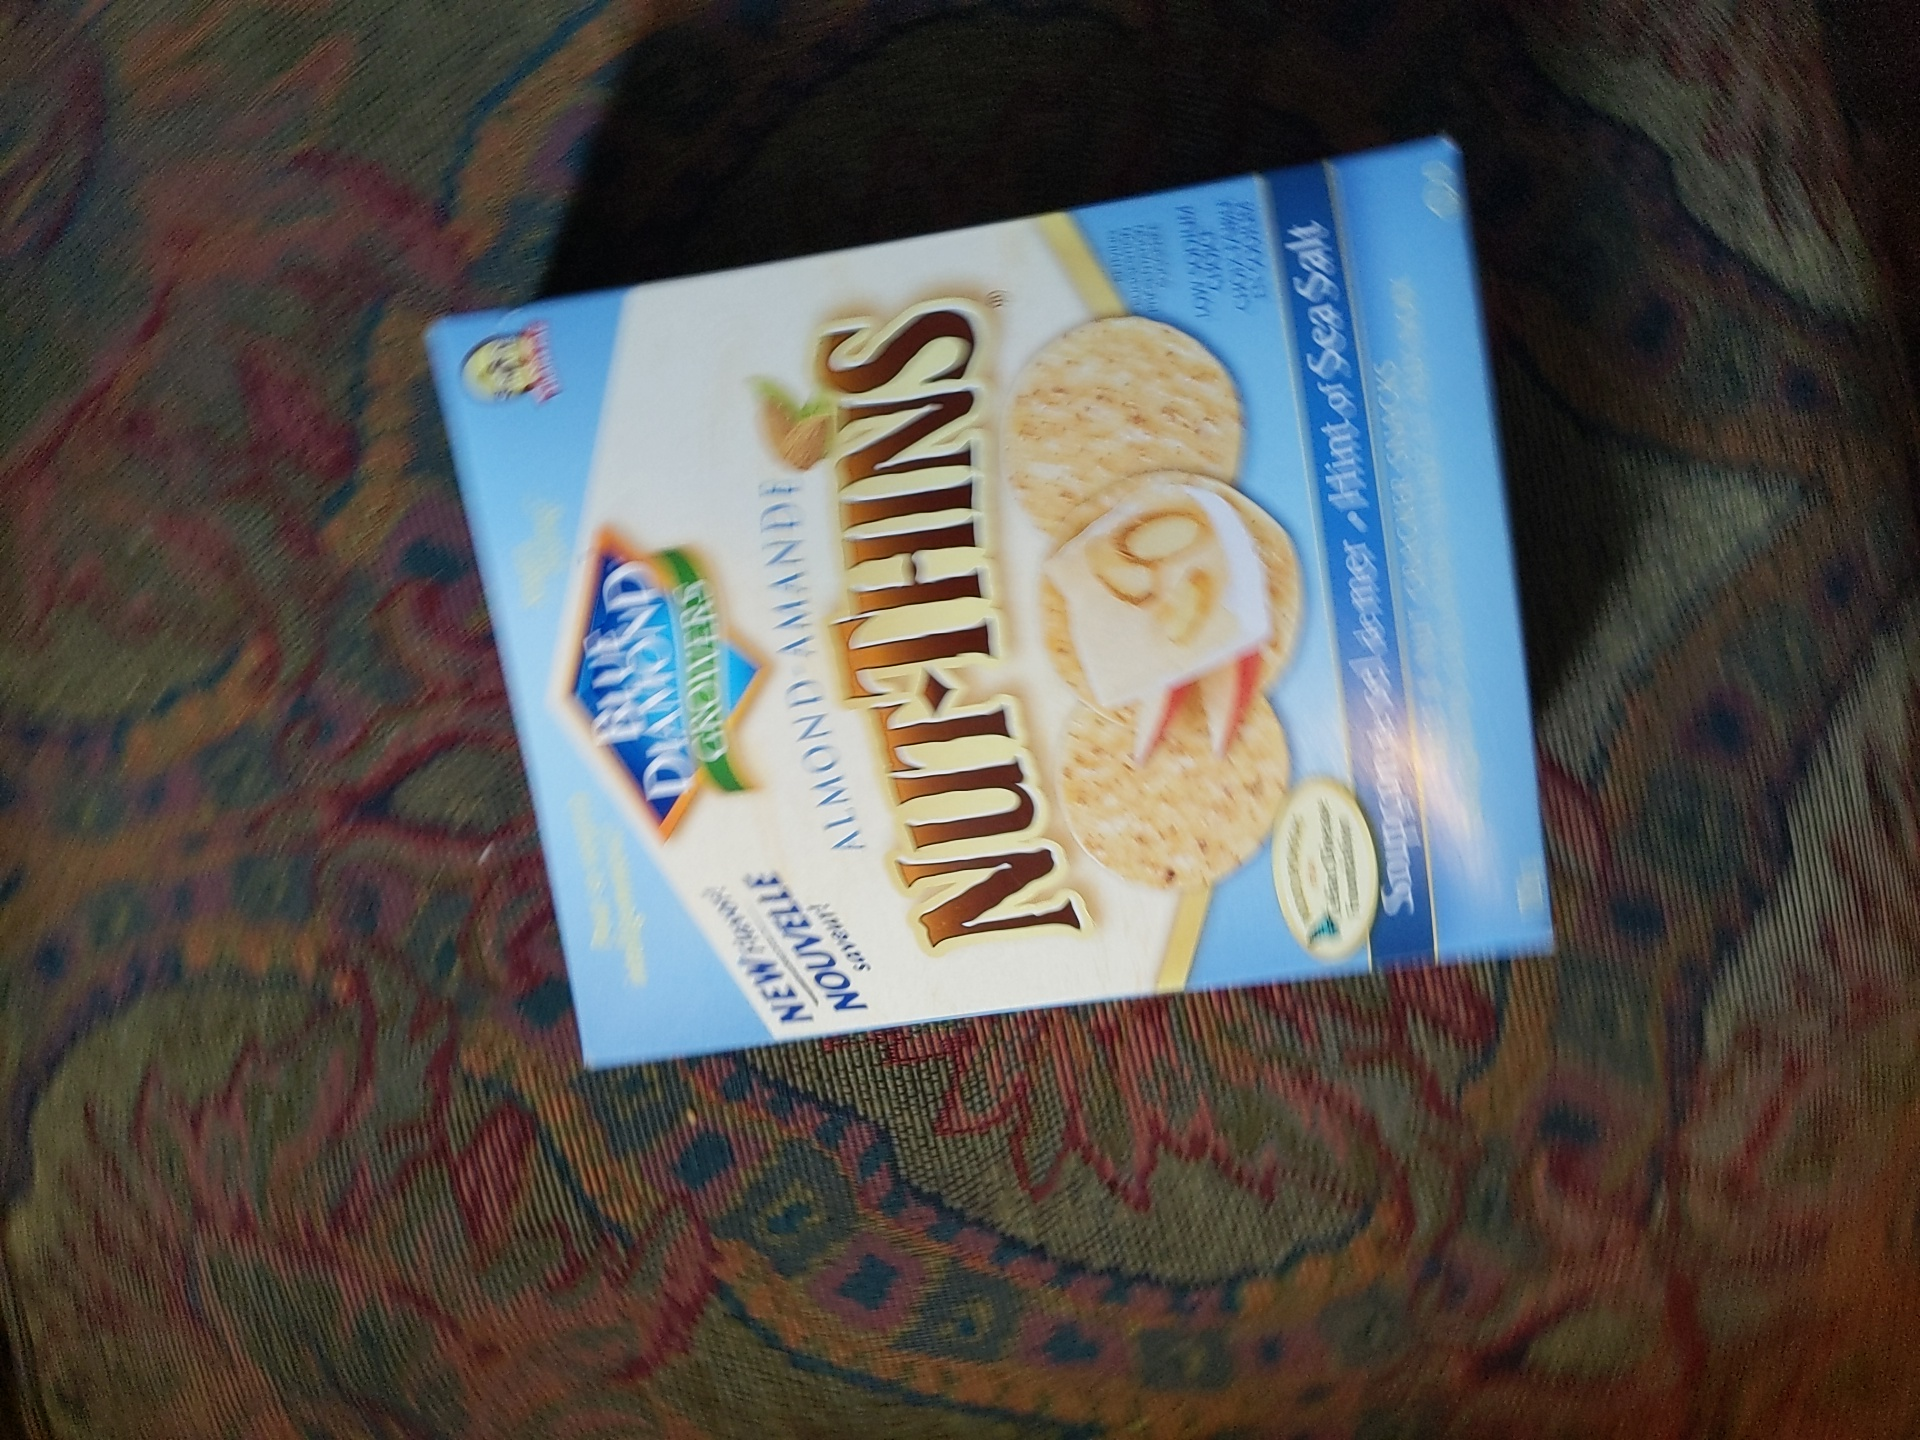blue_diamond_nut_thins_almond_seasalt: (487, 165, 1471, 1038)
